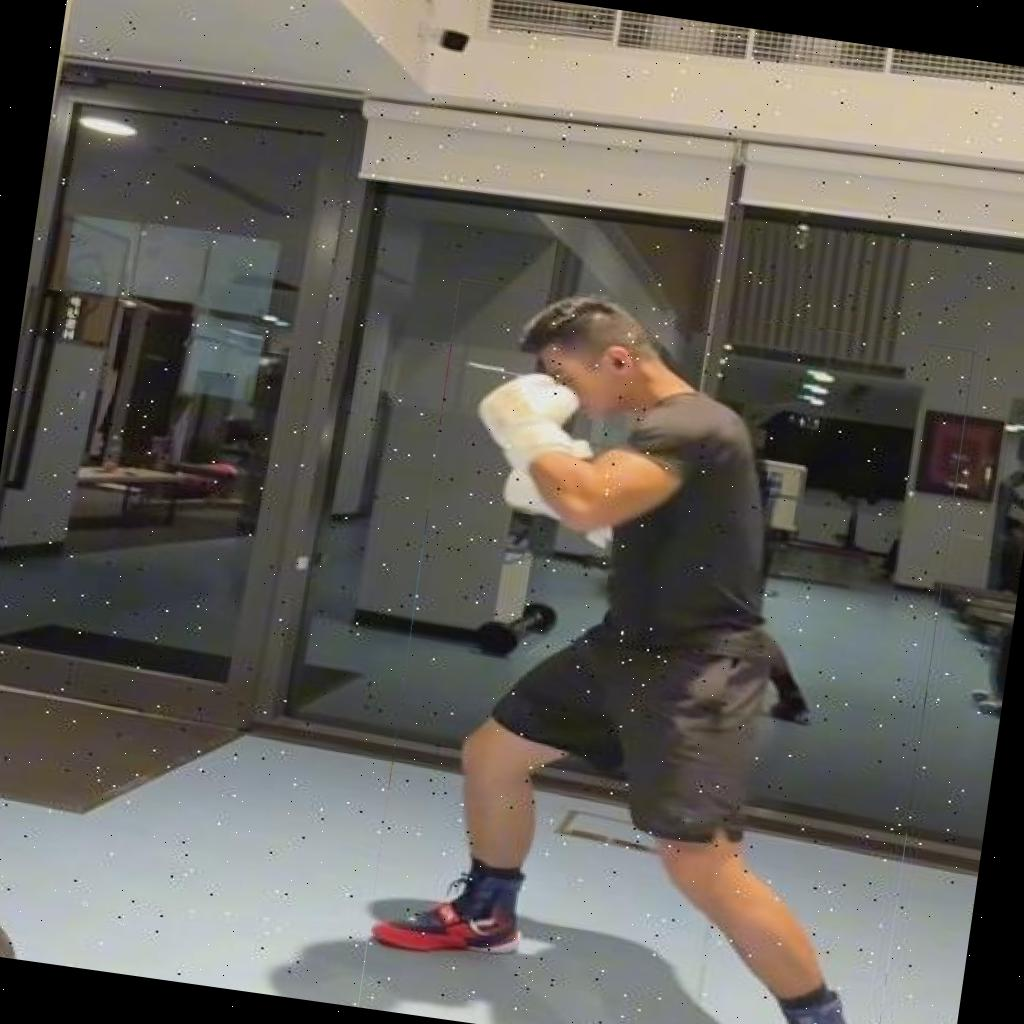no punch: (357, 279, 974, 1024)
